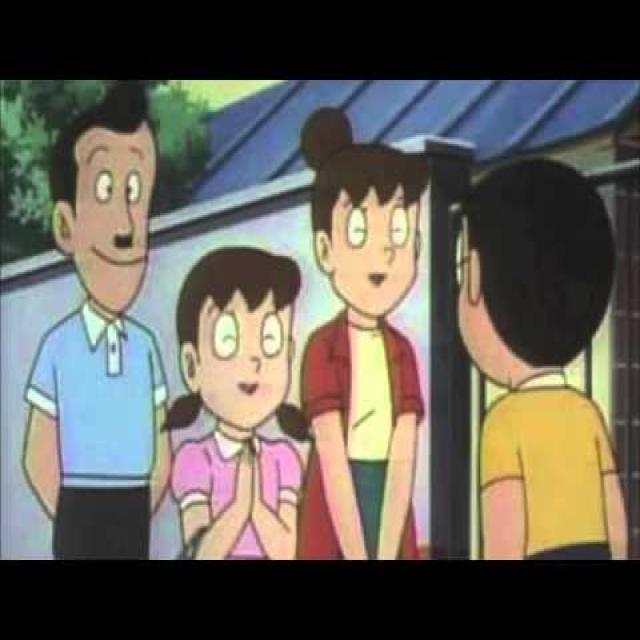shizuka: (161, 240, 327, 448)
